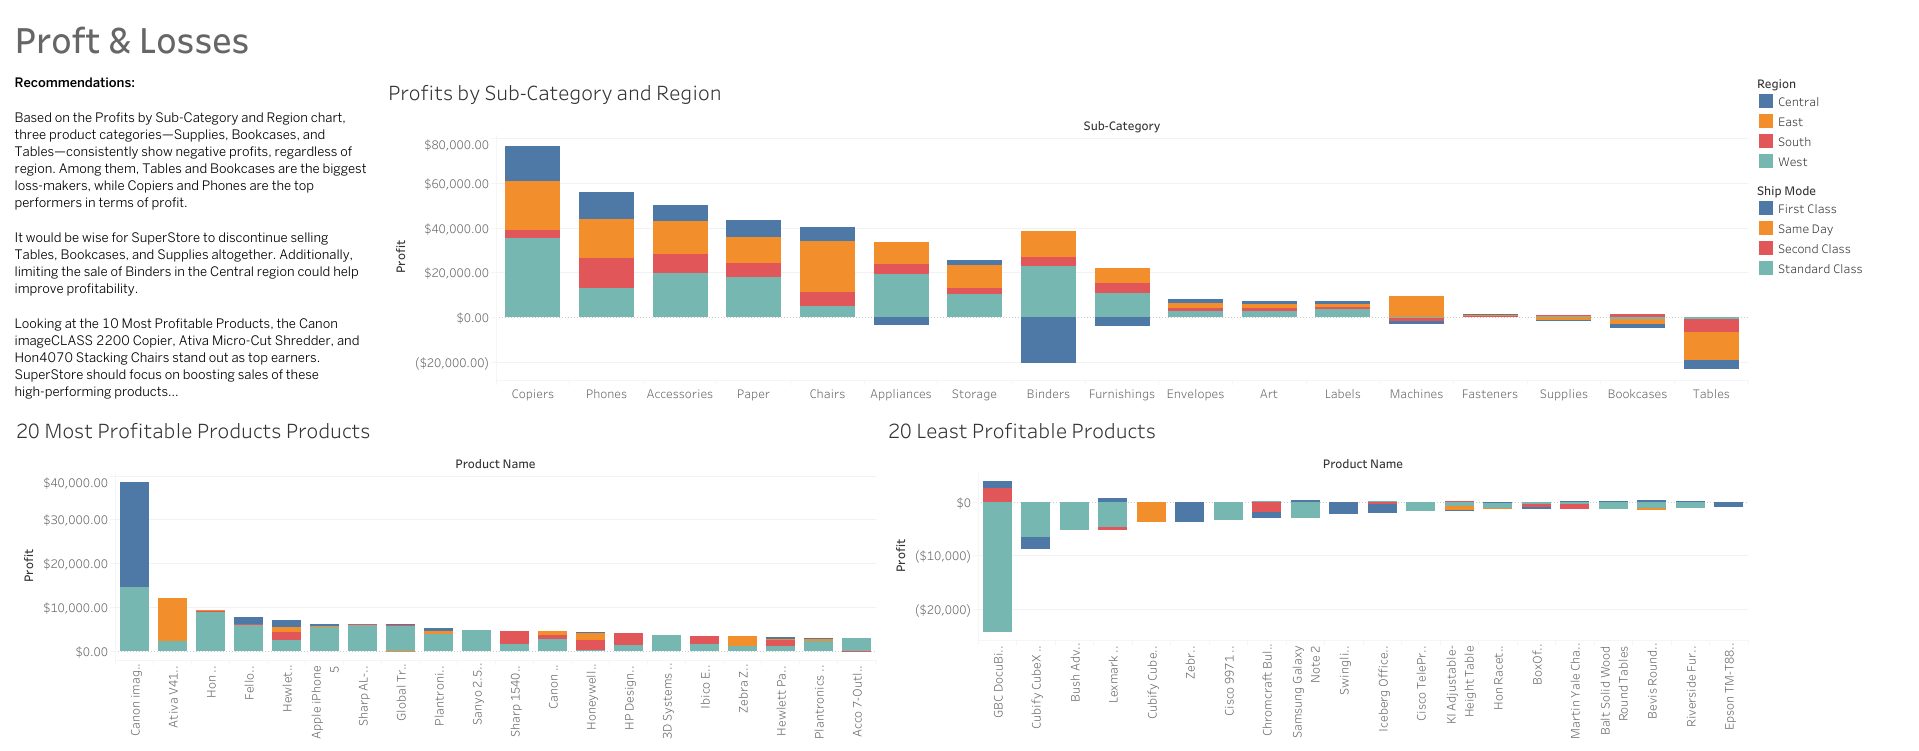

What the dashboard file says about the page in this screenshot:
{"tool":"tableau","page":{"name":"Profits & Losses","canvas":[650,860],"ordinal":1},"visuals":[{"type":"worksheet","title":"Profits by Sub-Category and Region","mark":"Automatic","rows":["Profit"],"cols":["Sub-Category"],"box":[8,8,474,422]},{"type":"legend","title":"Profits by Sub-Category and Region","param":"[federated.05bowjg01f7bka11ib0l11ukgefz].[none:Region:nk]","box":[482,8,160,106.4]},{"type":"legend","title":"20 Most Profitable Products Products","param":"[federated.05bowjg01f7bka11ib0l11ukgefz].[none:Ship Mode:nk]","box":[482,114.4,160,106.4]},{"type":"text","box":[8,430,474,211]},{"type":"worksheet","title":"20 Most Profitable Products Products","mark":"Automatic","rows":["Profit"],"cols":["Product Name"],"box":[8,641,237,211]},{"type":"worksheet","title":"20 Least Profitable Products","mark":"Automatic","rows":["Profit"],"cols":["Product Name"],"box":[245,641,237,211]}]}

Visuals, with their boxes on the page's 650x860 design canvas (x1, y1, x2, y2). These are canvas units, not pixel positions in the 1919x751 screenshot, which may show the page scaled, cropped or inside an application window:
"Profits by Sub-Category and Region" worksheet: x1=8, y1=8, x2=482, y2=430
"Profits by Sub-Category and Region" legend: x1=482, y1=8, x2=642, y2=114
"20 Most Profitable Products Products" legend: x1=482, y1=114, x2=642, y2=221
text: x1=8, y1=430, x2=482, y2=641
"20 Most Profitable Products Products" worksheet: x1=8, y1=641, x2=245, y2=852
"20 Least Profitable Products" worksheet: x1=245, y1=641, x2=482, y2=852
